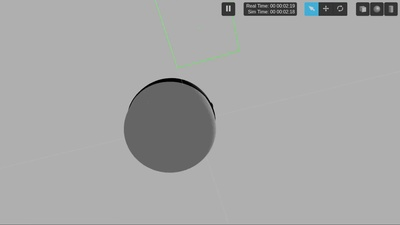mira_robot: (124, 77, 217, 173)
